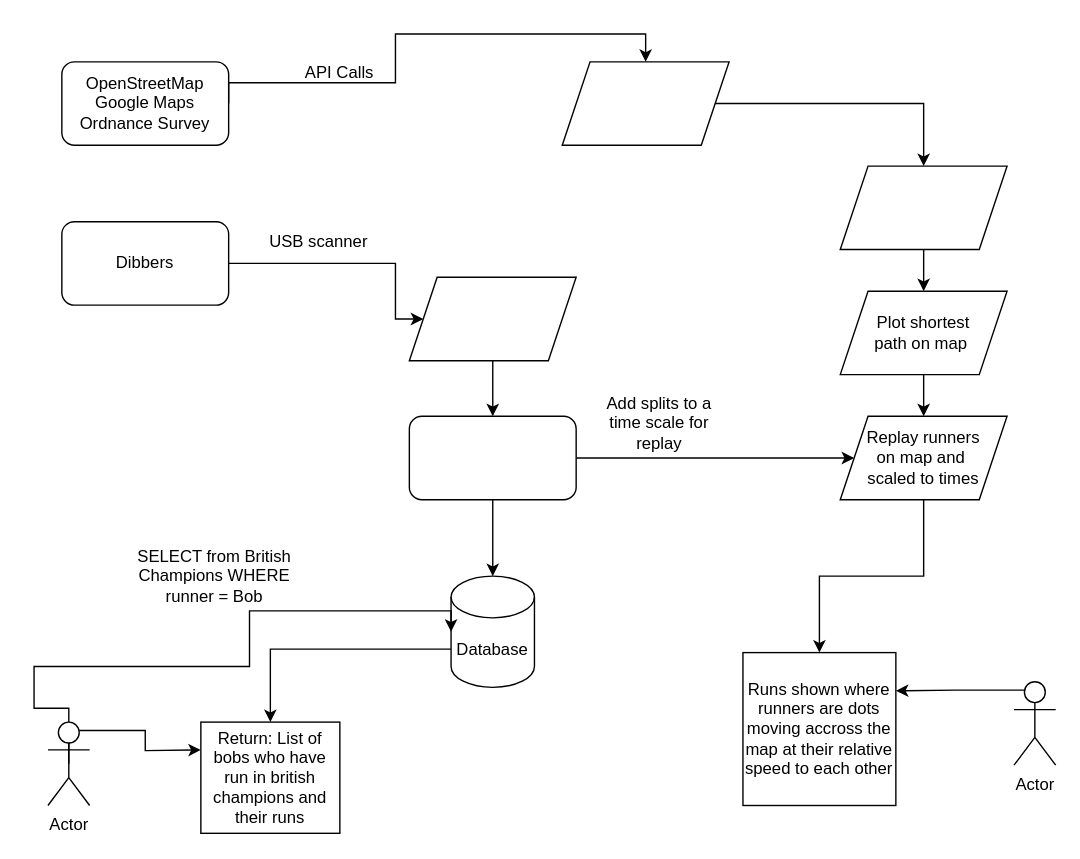
Some shapes in this 1080 by 859 pixel diagram are drawn without their labels. Each missing label, with the centre of its shape:
Build weighted graph from maps: (x=645, y=102)
Dibber Data Event Table: (x=492, y=457)
Dijkstras algorithm ran for each control: (x=923, y=207)
Interpret dibber CSV into data to be worked on: (x=492, y=318)
